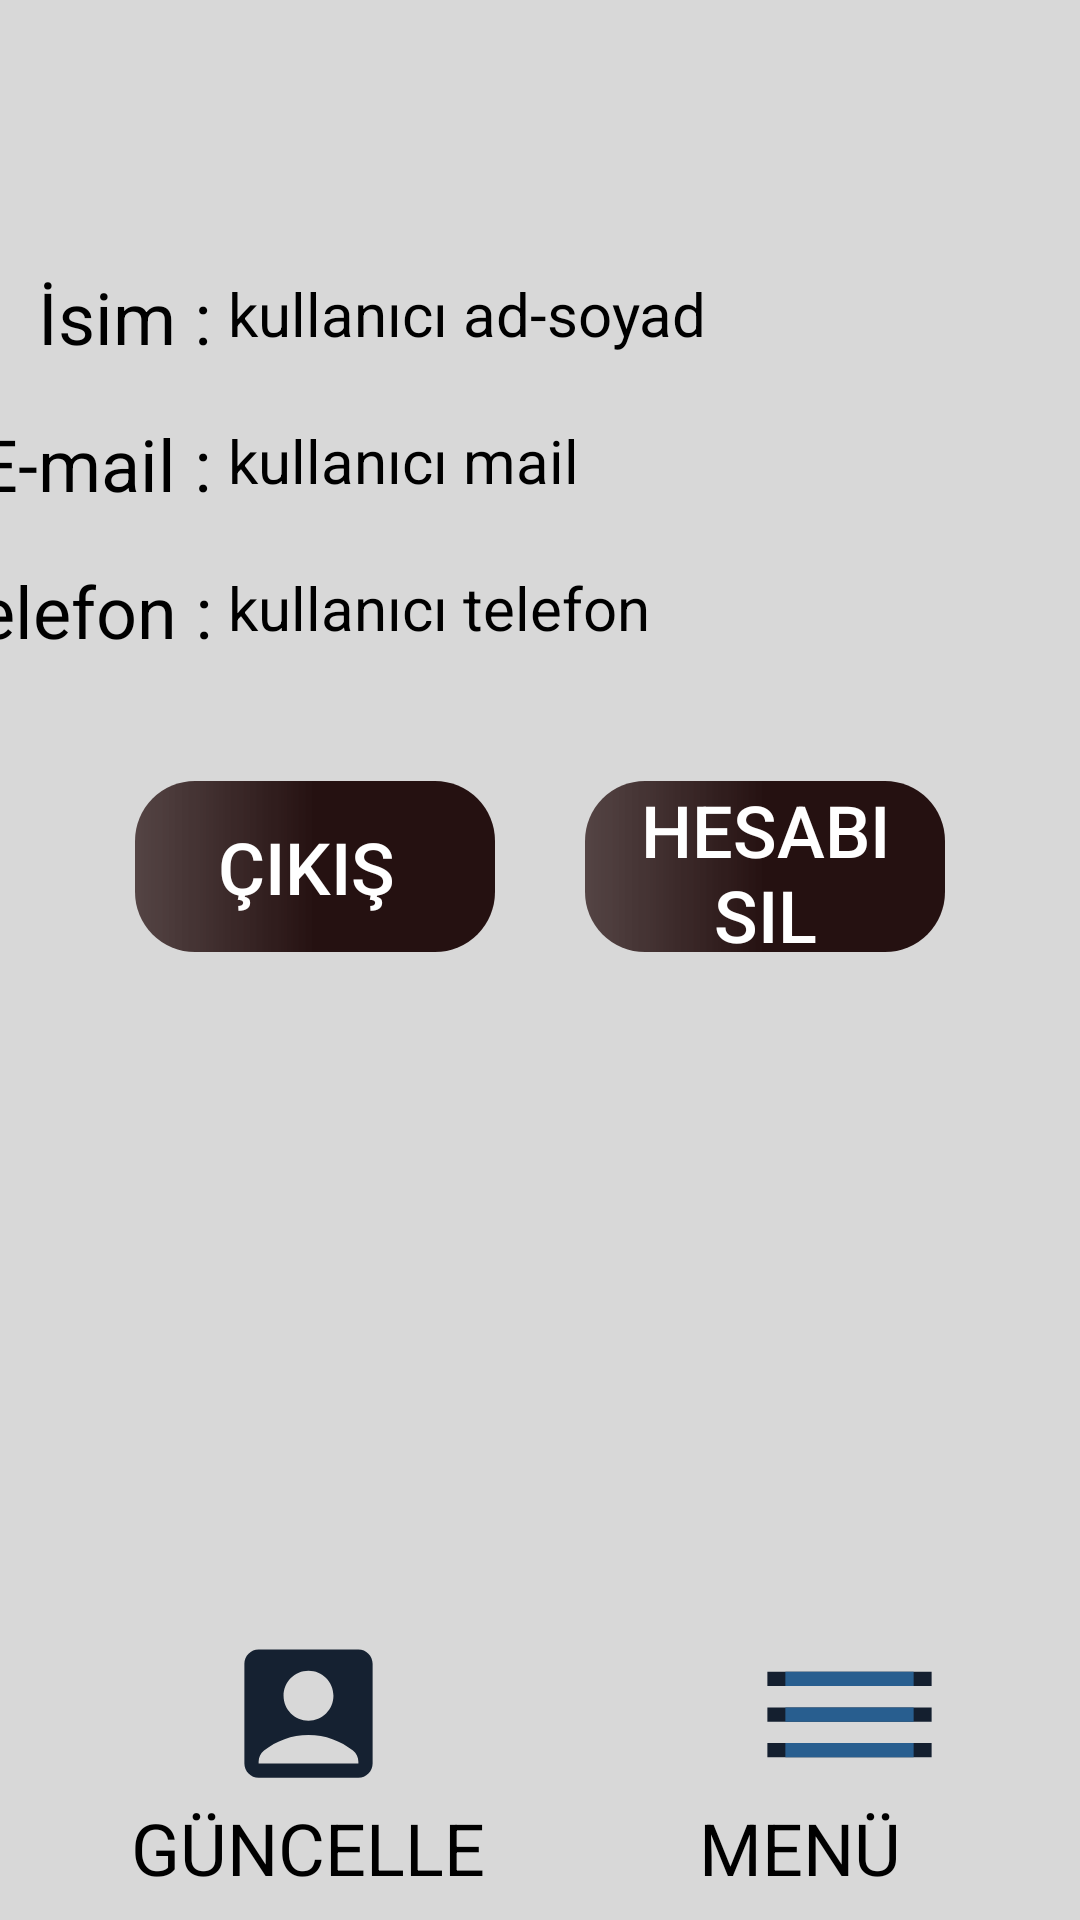

Screen size 1080px×1920px. Icon name, then its box in pixels as box=[x1, y1, x2, y2]:
account box: box=[244, 1649, 373, 1778]
